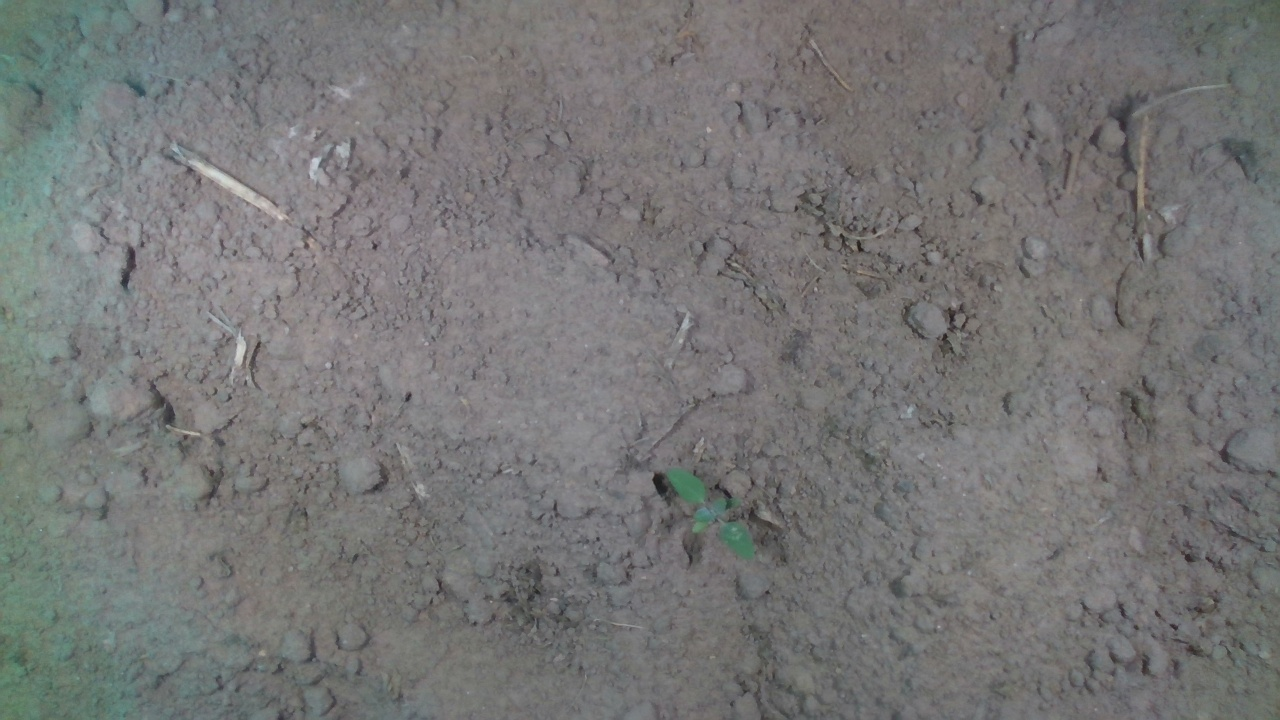weed: (663, 464, 757, 562)
